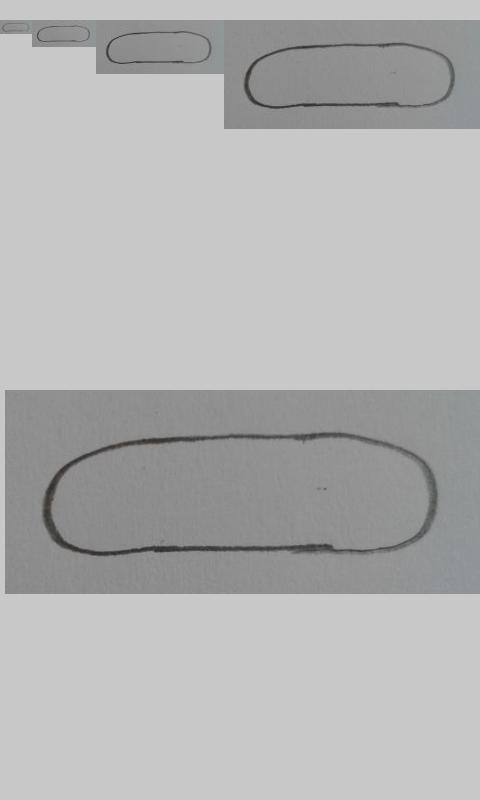chip: (41, 433, 439, 558), (242, 41, 456, 109), (106, 31, 213, 65), (37, 25, 90, 43), (2, 22, 30, 32)
